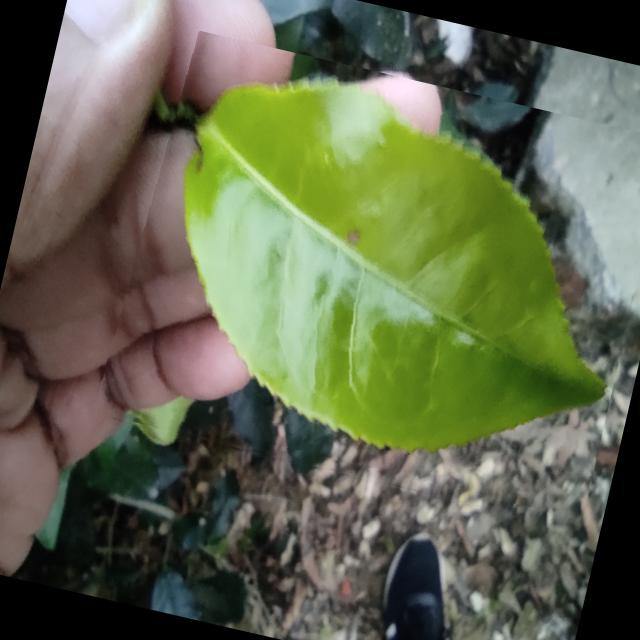Category C 4-7 days: (90, 26, 640, 531)
